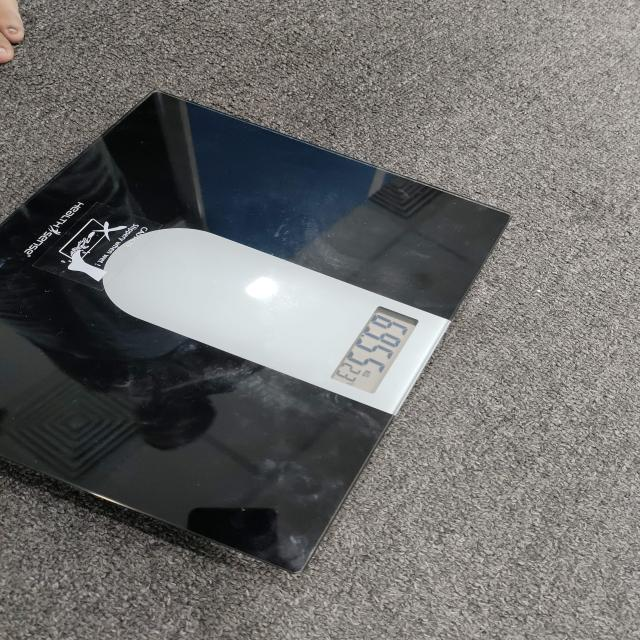ws: (0, 93, 509, 575)
